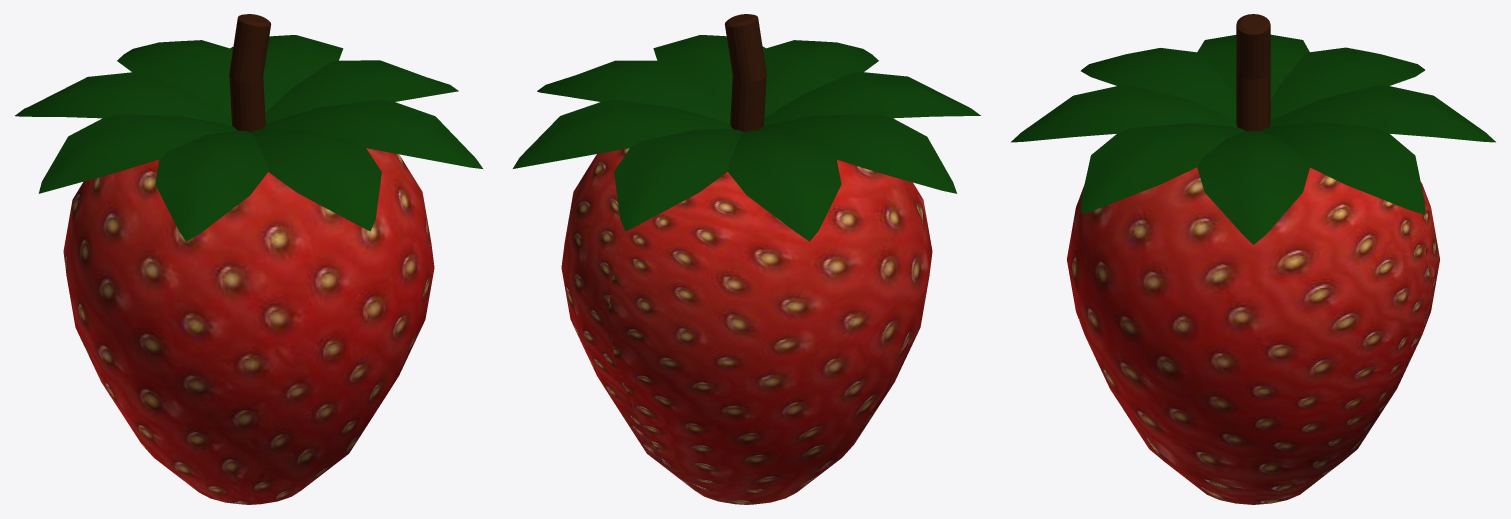
Rendered from Strawberry 1.fbx.
The picture shows the model from 3 angles, left to right: view 1: azimuth 30°, elevation 25°; view 2: azimuth 150°, elevation 25°; view 3: azimuth 270°, elevation 25°; orthographic projection.
Parts seen in each view (by area): view 1: Sphere003, Plane005, Plane003, Plane002, Plane008, Plane007, Plane001, Plane004, Object003, Plane006; view 2: Sphere003, Plane007, Plane004, Plane002, Plane006, Plane005, Plane001, Plane003, Object003, Plane008; view 3: Sphere003, Plane001, Plane006, Plane008, Plane003, Plane004, Plane007, Plane005, Object003, Plane002.
Part boxes in pixels (x1,y1,x2,y2): Sphere003: [63, 148, 434, 504]; Plane005: [155, 130, 268, 241]; Plane003: [251, 129, 381, 231]; Plane002: [38, 114, 238, 193]; Plane008: [262, 99, 482, 168]; Plane007: [15, 72, 231, 125]; Plane001: [265, 60, 458, 123]; Plane004: [117, 40, 232, 117]; Object003: [229, 14, 271, 131]; Plane006: [230, 35, 343, 112]; Sphere003: [561, 148, 932, 504]; Plane007: [728, 130, 841, 241]; Plane004: [614, 129, 744, 231]; Plane002: [757, 114, 957, 193]; Plane006: [513, 99, 733, 168]; Plane005: [764, 72, 980, 125]; Plane001: [537, 60, 730, 123]; Plane003: [763, 40, 878, 117]; Object003: [724, 14, 766, 131]; Plane008: [653, 35, 765, 112]; Sphere003: [1067, 167, 1439, 504]; Plane001: [1197, 130, 1309, 244]; Plane006: [1260, 122, 1425, 214]; Plane008: [1080, 123, 1246, 214]; Plane003: [1011, 85, 1237, 142]; Plane004: [1269, 85, 1495, 142]; Plane007: [1270, 47, 1424, 120]; Plane005: [1081, 48, 1236, 120]; Object003: [1236, 14, 1270, 131]; Plane002: [1197, 34, 1309, 99].
Bounding box in the file's own units: 130 × 144 × 130.
Materials: 3 (1 with a texture image).
